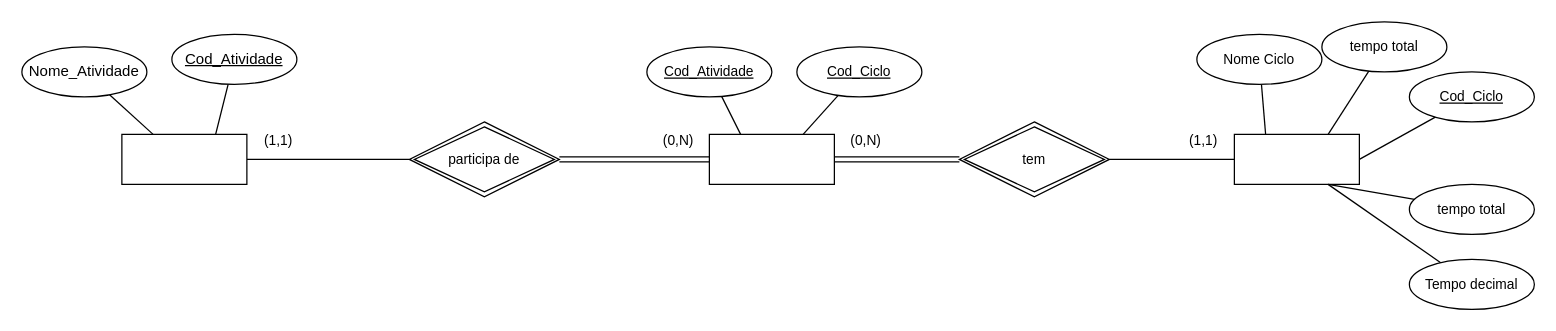
This 1556x331 diagram has some shape labels left out. The shapes that lost their labels are listed below. From the top down, each one's centre as x and y in pixels, then its label:
the point at 184,158: Atividade
the point at 771,158: Atividade_Ciclo
the point at 1296,158: ciclo
